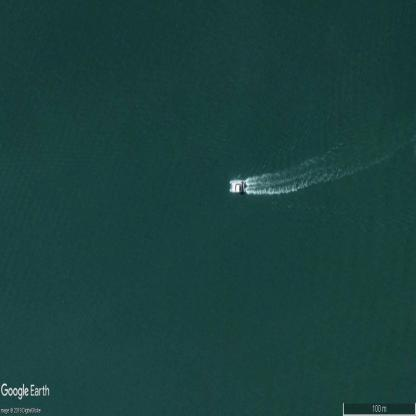ship: (230, 181, 245, 193)
